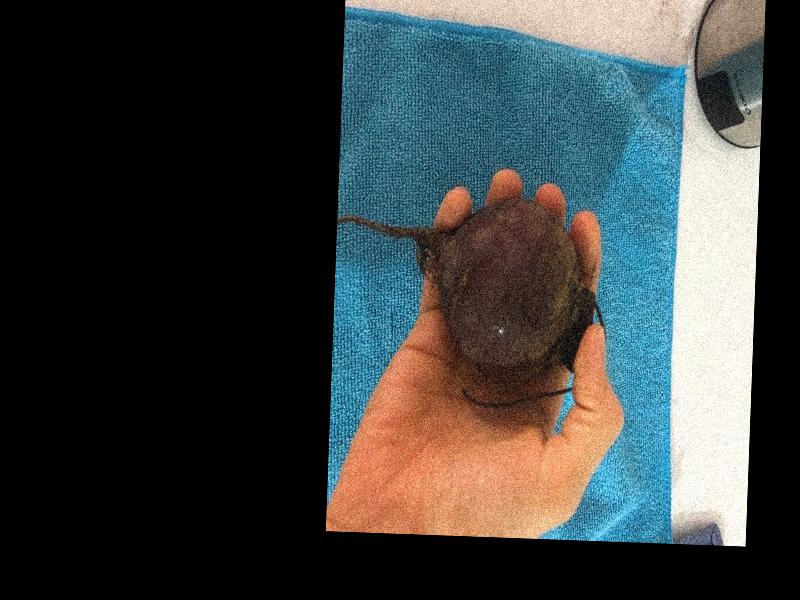Beet: (330, 190, 610, 410)
